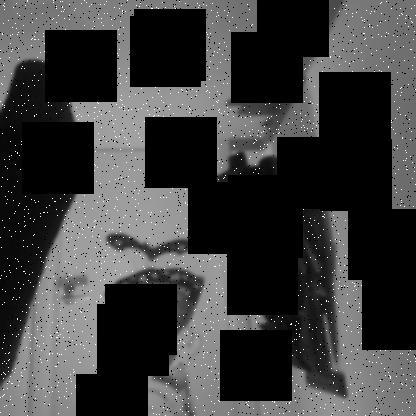Porte: (27, 136, 262, 415)
